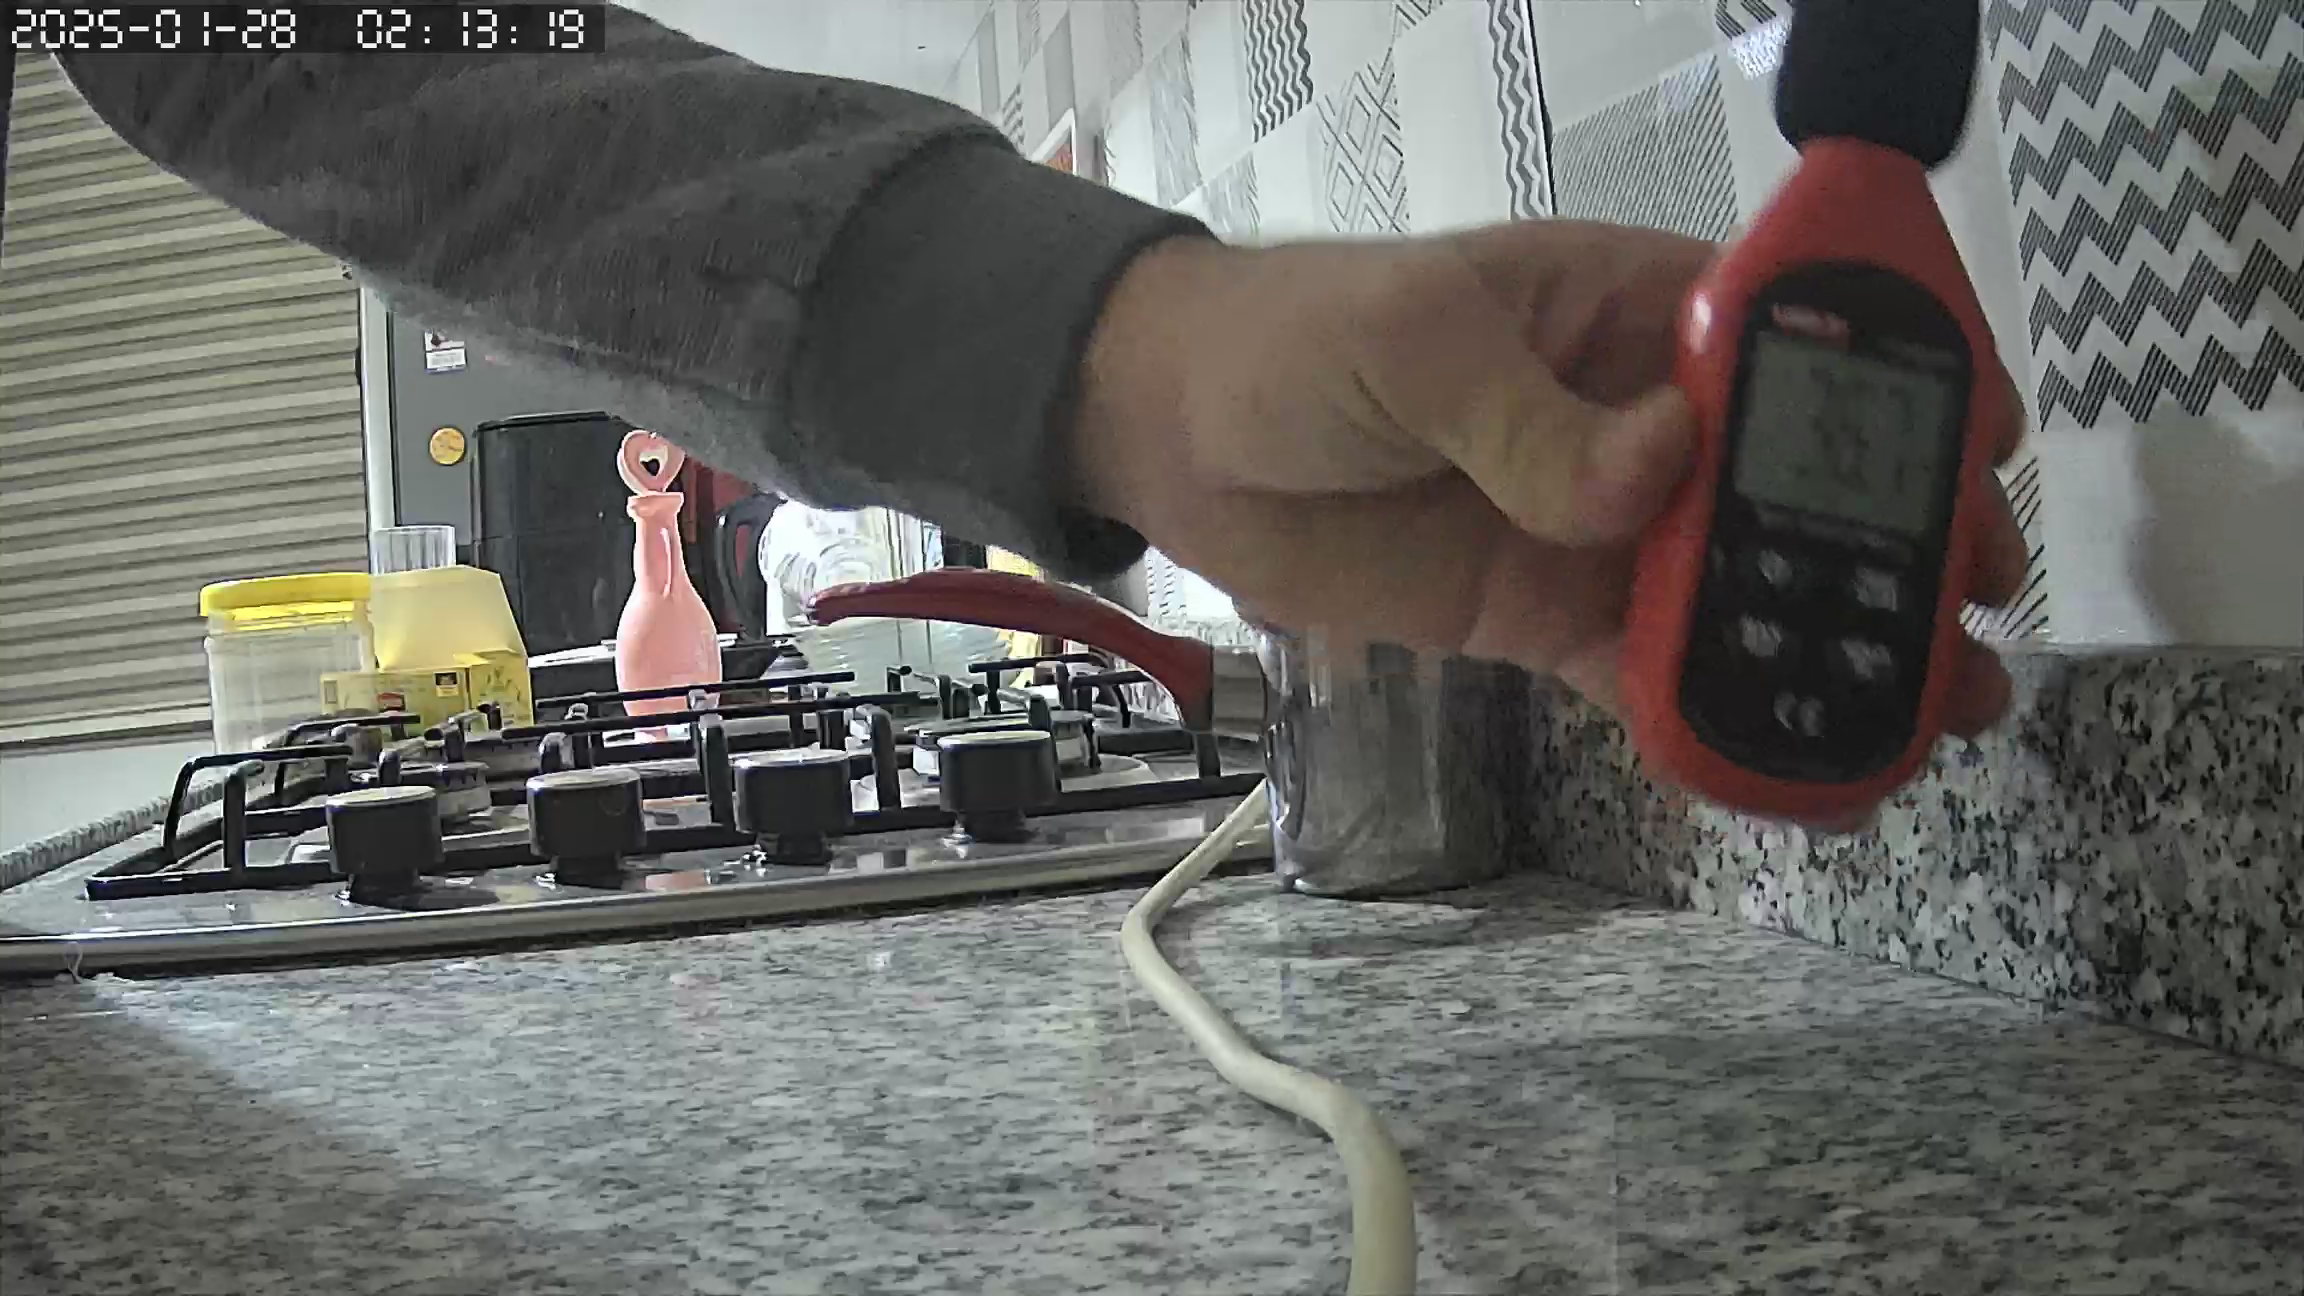screen: (1733, 331, 1946, 540)
